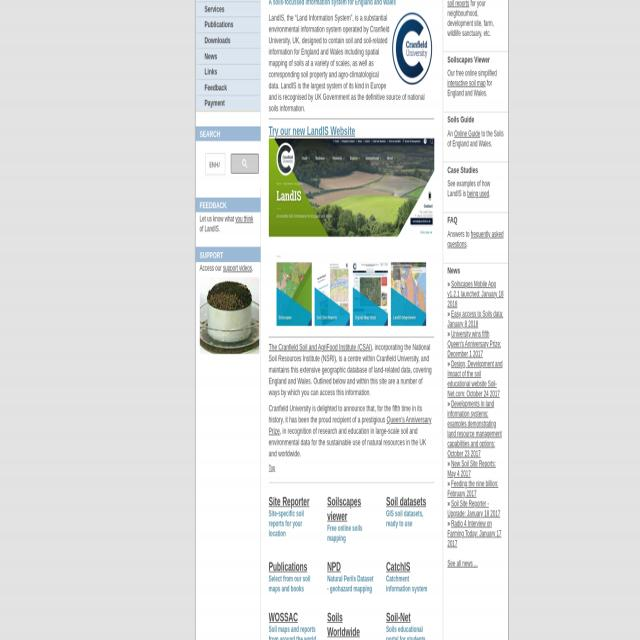button: (269, 138, 434, 332), (200, 277, 259, 354), (392, 13, 432, 86), (242, 159, 248, 169)
field: (210, 158, 220, 171)
